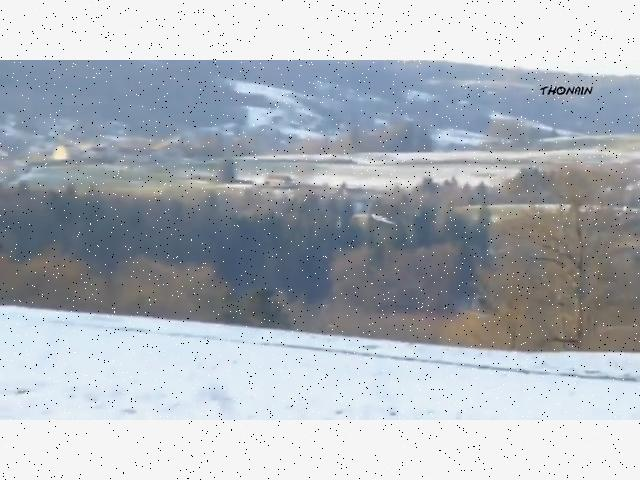Anti-Drone: (372, 214, 396, 224)
